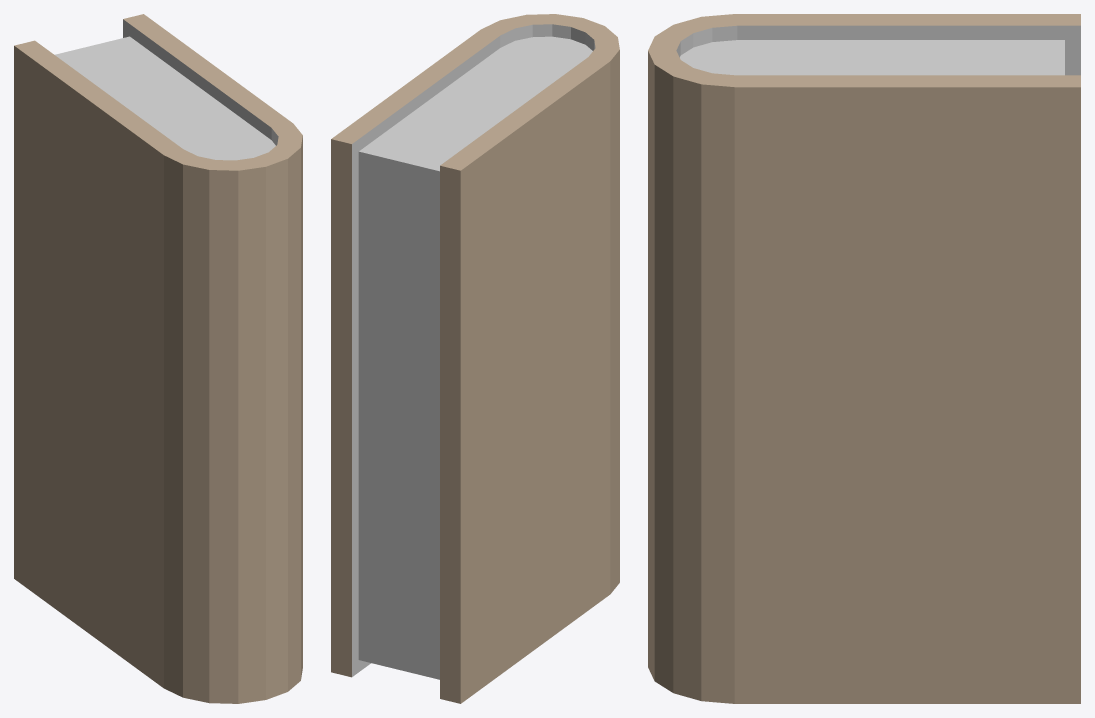
File: book.obj
The picture shows the model from 3 angles, left to right: view 1: azimuth 30°, elevation 25°; view 2: azimuth 150°, elevation 25°; view 3: azimuth 270°, elevation 25°; orthographic projection. The views are drawn at different scales.
Parts seen in each view (by area): view 1: book; view 2: book; view 3: book.
Part boxes in pixels (bbox=[...]): book: bbox=[14, 14, 302, 703]; book: bbox=[331, 14, 619, 703]; book: bbox=[648, 14, 1080, 703].
Size of the model in its own units: 0.0344 by 0.1351 by 0.0859.
